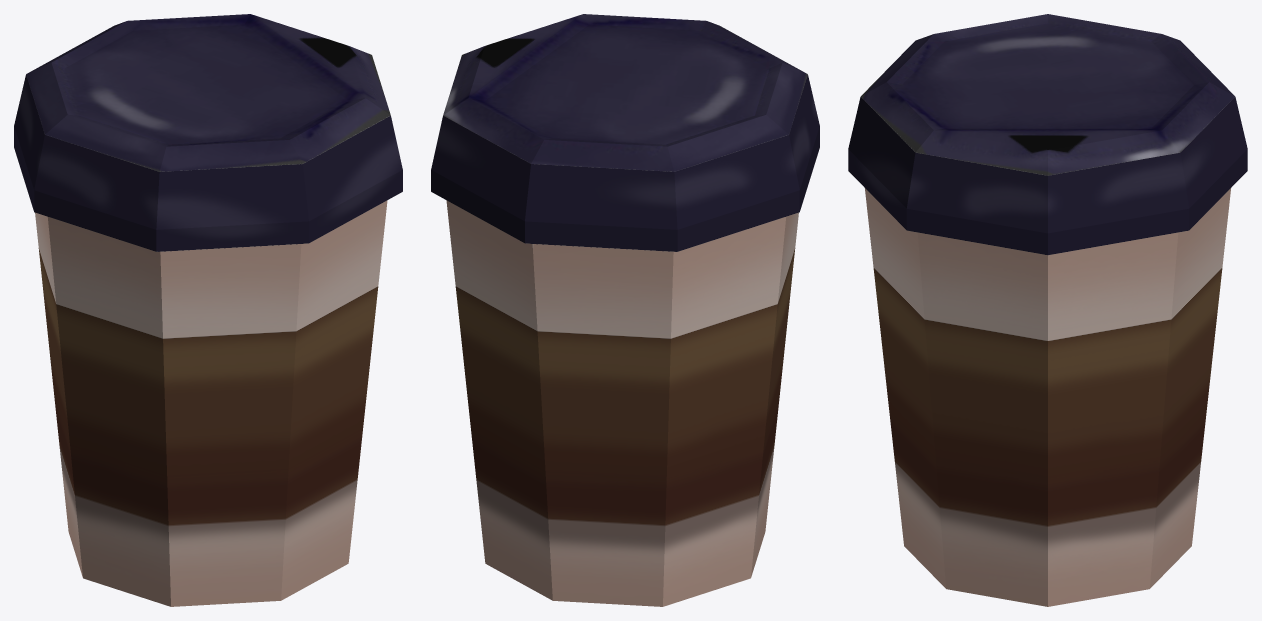
3 renders of one model, left to right at view 1: azimuth 30°, elevation 25°; view 2: azimuth 150°, elevation 25°; view 3: azimuth 270°, elevation 25°, orthographic.
Parts seen in each view (by area): view 1: Coffee.001; view 2: Coffee.001; view 3: Coffee.001.
Boxes of the visible parts, left/top/right/bottom form: Coffee.001: left=14, top=14, right=402, bottom=606; Coffee.001: left=431, top=14, right=819, bottom=606; Coffee.001: left=848, top=14, right=1247, bottom=606.
Size of the model in its own units: 1.21 by 1.55 by 1.21.
Materials: 1 (1 with a texture image).
